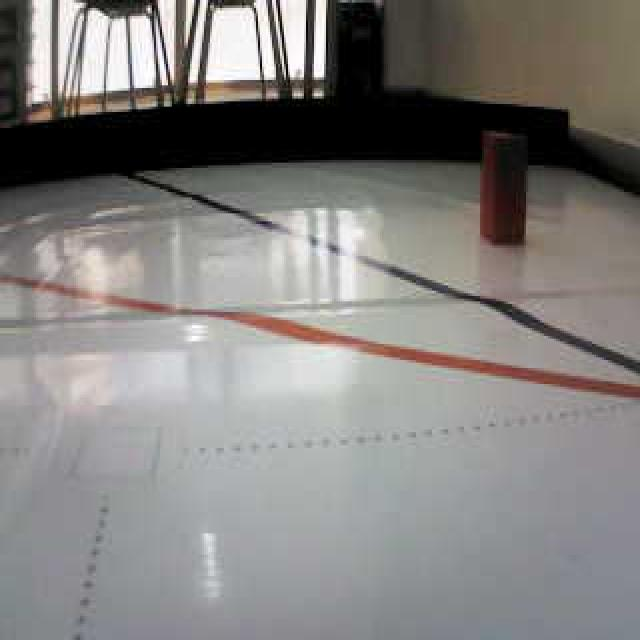azul: (134, 151, 434, 261)
naranja: (162, 282, 394, 403)
rojo: (474, 123, 546, 270)
